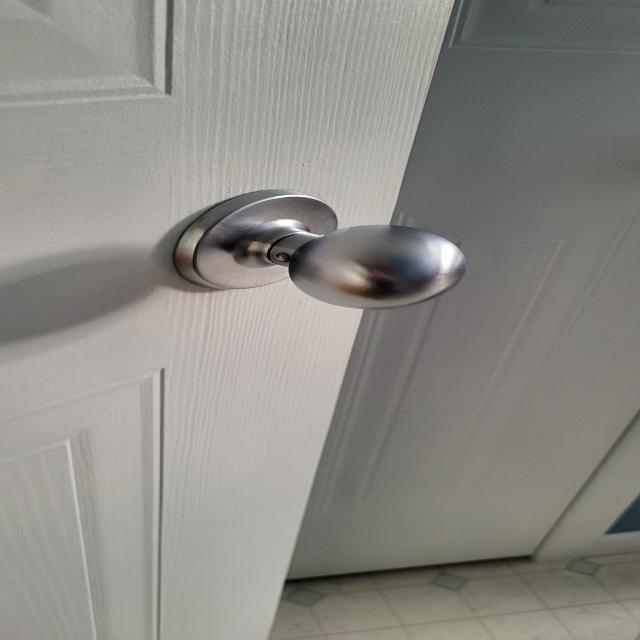door-knob: (176, 190, 465, 309)
